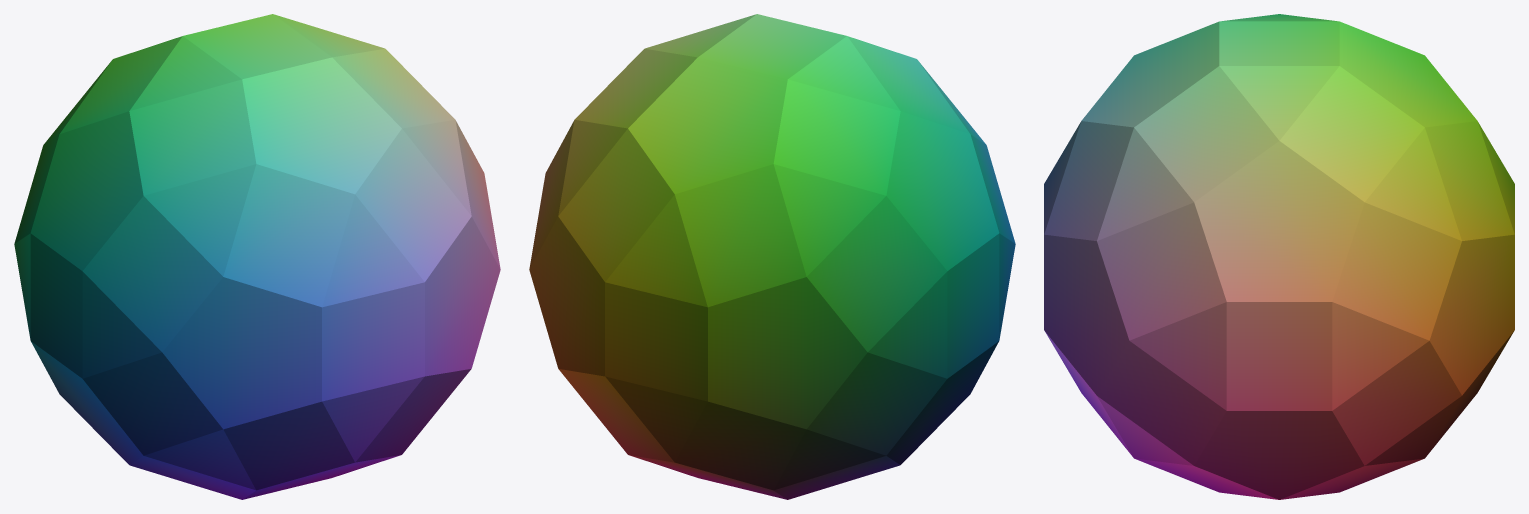
File: zeometry-polyhedra-rhombicosidodecahedron_v1.glb
3 renders of one model, left to right at view 1: azimuth 30°, elevation 25°; view 2: azimuth 150°, elevation 25°; view 3: azimuth 270°, elevation 25°, orthographic.
Parts seen in each view (by area): view 1: Rhombicosidodecahedron; view 2: Rhombicosidodecahedron; view 3: Rhombicosidodecahedron.
Part boxes in pixels (<box>): Rhombicosidodecahedron: <box>14,14,500,499</box>; Rhombicosidodecahedron: <box>529,14,1015,499</box>; Rhombicosidodecahedron: <box>1044,14,1514,499</box>.
Size of the model in its own units: 0.5 by 0.5 by 0.5.
